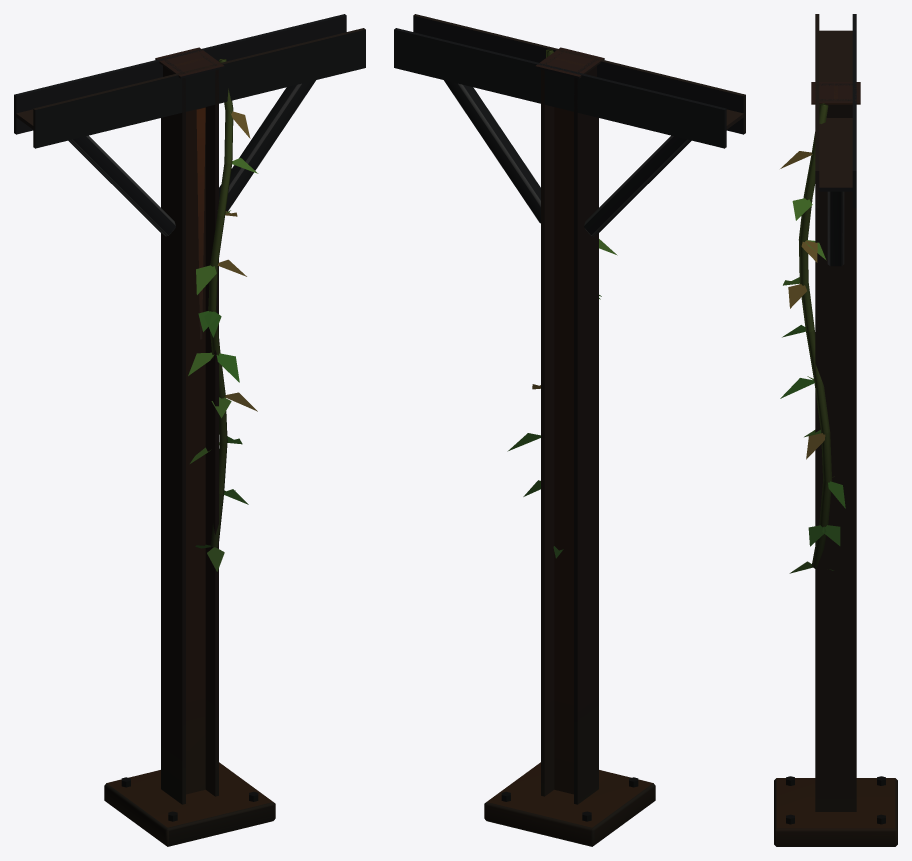
File: kit_catwalk_support.glb
The picture shows the model from 3 angles, left to right: view 1: azimuth 30°, elevation 25°; view 2: azimuth 150°, elevation 25°; view 3: azimuth 270°, elevation 25°; orthographic projection. The views are drawn at different scales.
Visible parts, largest first — view 1: Mesh; view 2: Mesh; view 3: Mesh.
Part boxes in pixels (box(x1,y1,x2,y2)): Mesh: box(14, 14, 365, 846); Mesh: box(394, 14, 745, 846); Mesh: box(774, 14, 897, 846).
Bounding box in the file's own units: 1.8 × 3.9 × 0.6.
